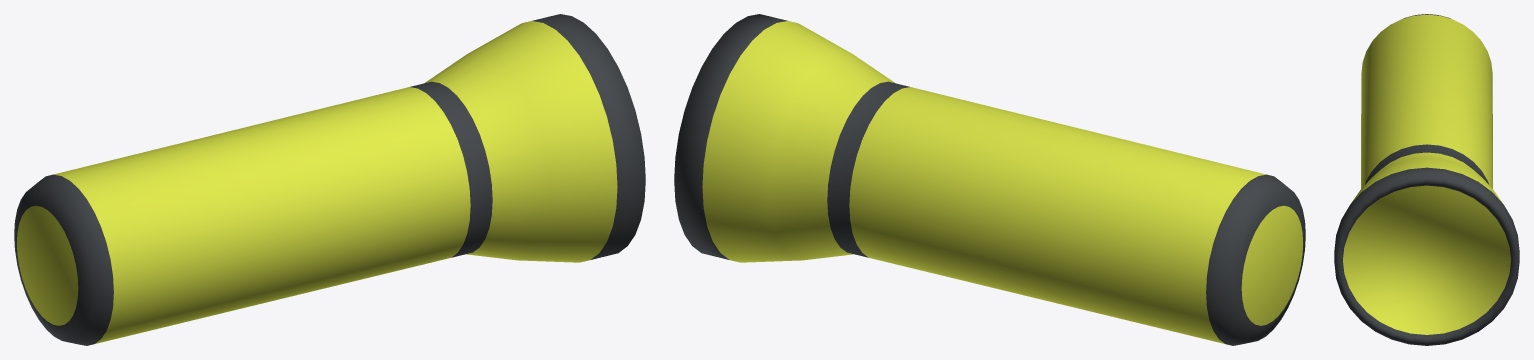
File: Flashlight.fbx
3 views of the same model, side by side, from view 1: azimuth 30°, elevation 25°; view 2: azimuth 150°, elevation 25°; view 3: azimuth 270°, elevation 25° (orthographic). The views are drawn at different scales.
Parts seen in each view (by area): view 1: Cylinder; view 2: Cylinder; view 3: Cylinder.
Boxes of the visible parts, x1,y1,x2,y2 form: Cylinder: (14, 14, 645, 345); Cylinder: (674, 14, 1305, 345); Cylinder: (1334, 14, 1519, 345).
Bounding box in the file's own units: 30.31 × 12.11 × 12.11.
